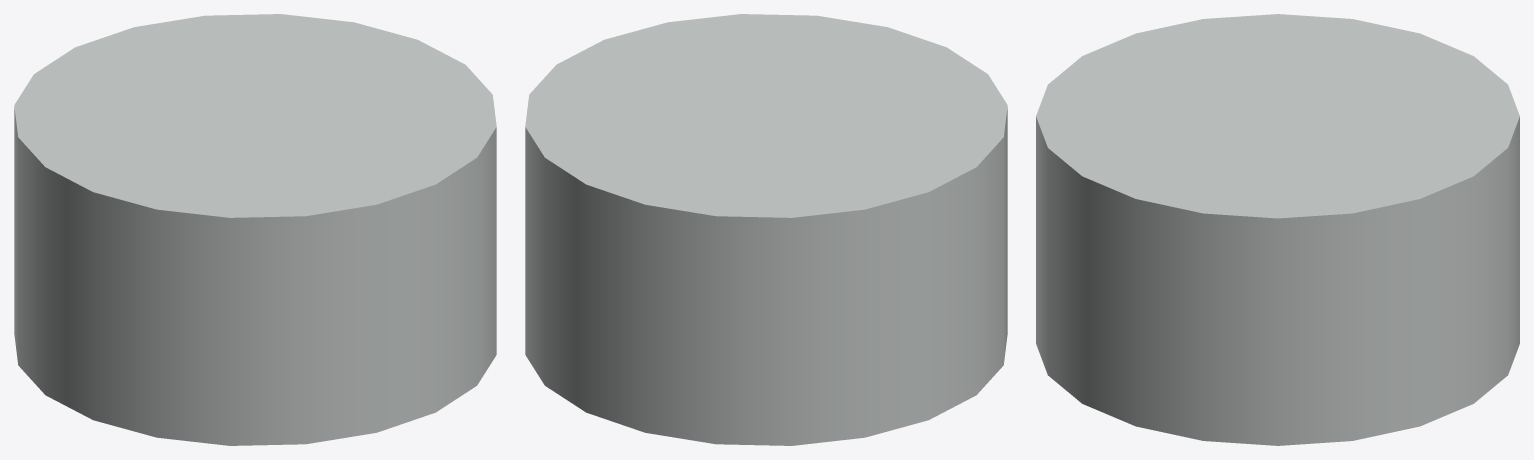
Rendered from SM_UI_LevelPath_03.fbx.
The picture shows the model from 3 angles, left to right: view 1: azimuth 30°, elevation 25°; view 2: azimuth 150°, elevation 25°; view 3: azimuth 270°, elevation 25°; orthographic projection.
Parts seen in each view (by area): view 1: SM_UI_LevelPath_03; view 2: SM_UI_LevelPath_03; view 3: SM_UI_LevelPath_03.
Part boxes in pixels (x1,y1,x2,y2): SM_UI_LevelPath_03: (14, 14, 496, 445); SM_UI_LevelPath_03: (525, 14, 1007, 445); SM_UI_LevelPath_03: (1036, 14, 1519, 445).
Bounding box in the file's own units: 50 × 25.93 × 50.
1 material, 1 textured.
